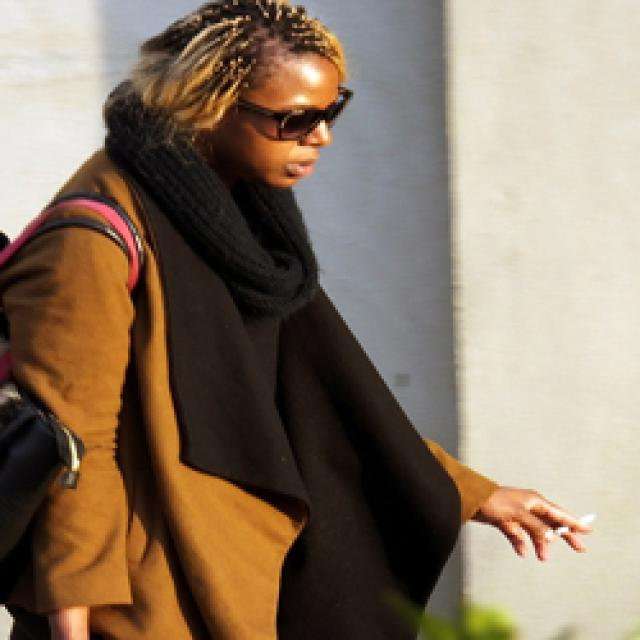Smooking: (539, 498, 611, 538)
